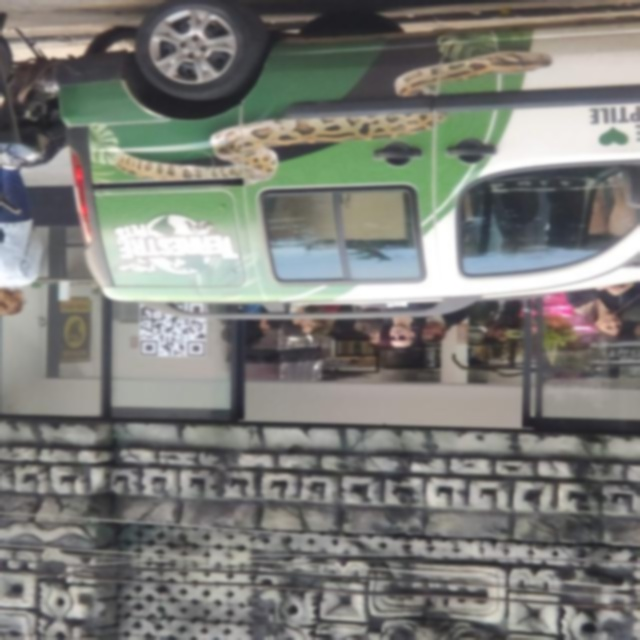qr-code: (140, 303, 205, 356)
